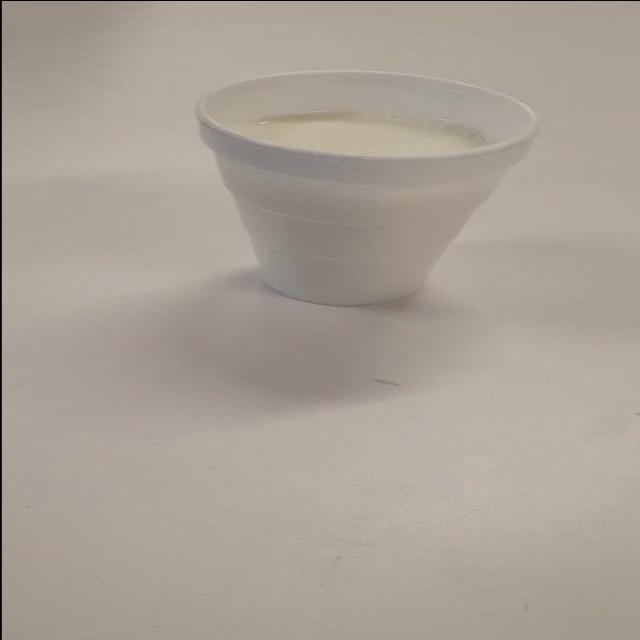Milk: (177, 59, 558, 318)
